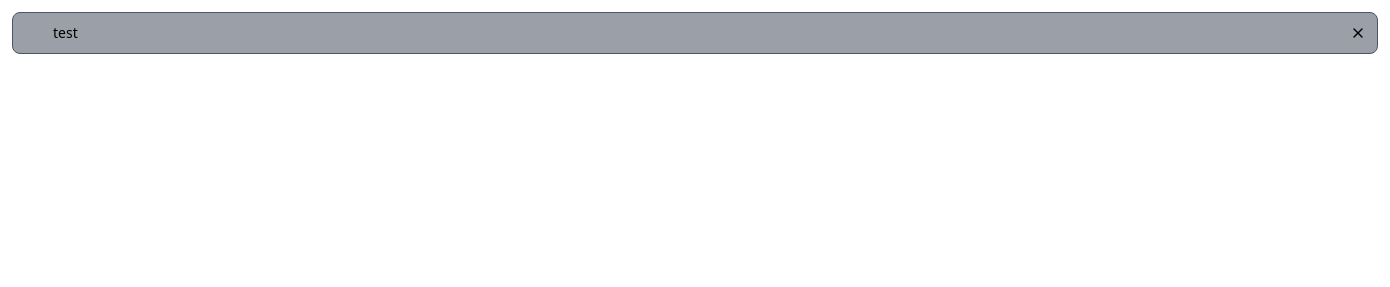
Test: SearchBar › shows loading state when fetching suggestions
This screenshot has width=1390, height=287.
Focus the field with placeholder "Search comics..." at [695, 33], box left=12, top=12, right=1378, bottom=54
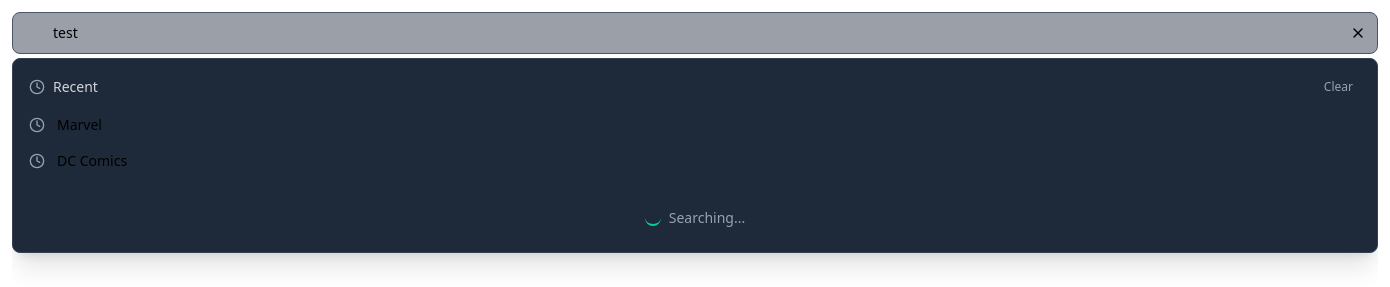
Check: the text "Searching..." is shown, box left=669, top=208, right=745, bottom=228
